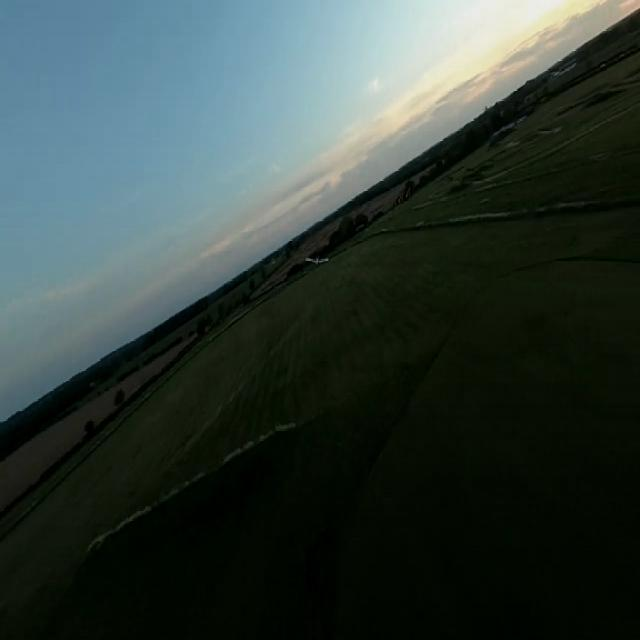iha: (295, 250, 332, 272)
